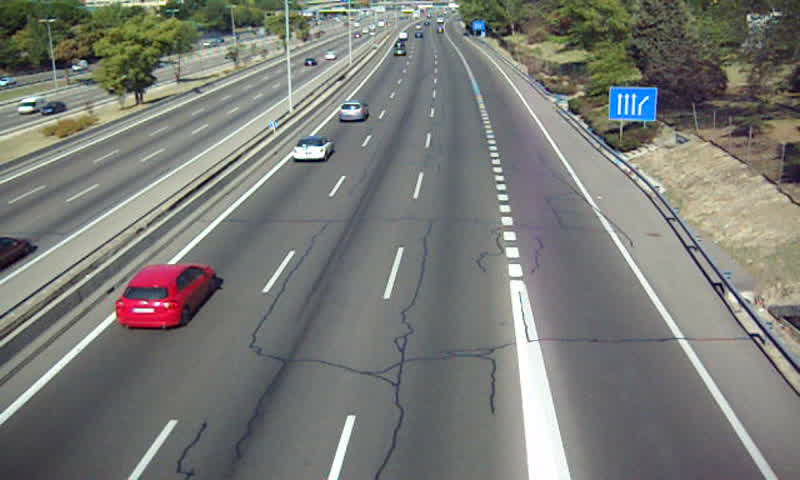car: (115, 263, 218, 327), (293, 138, 333, 160), (338, 100, 369, 122)
